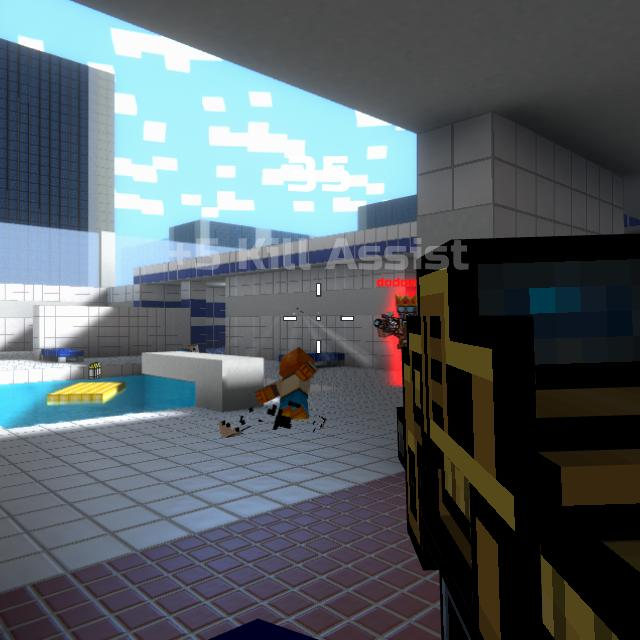Enemy: (378, 294, 415, 358)
